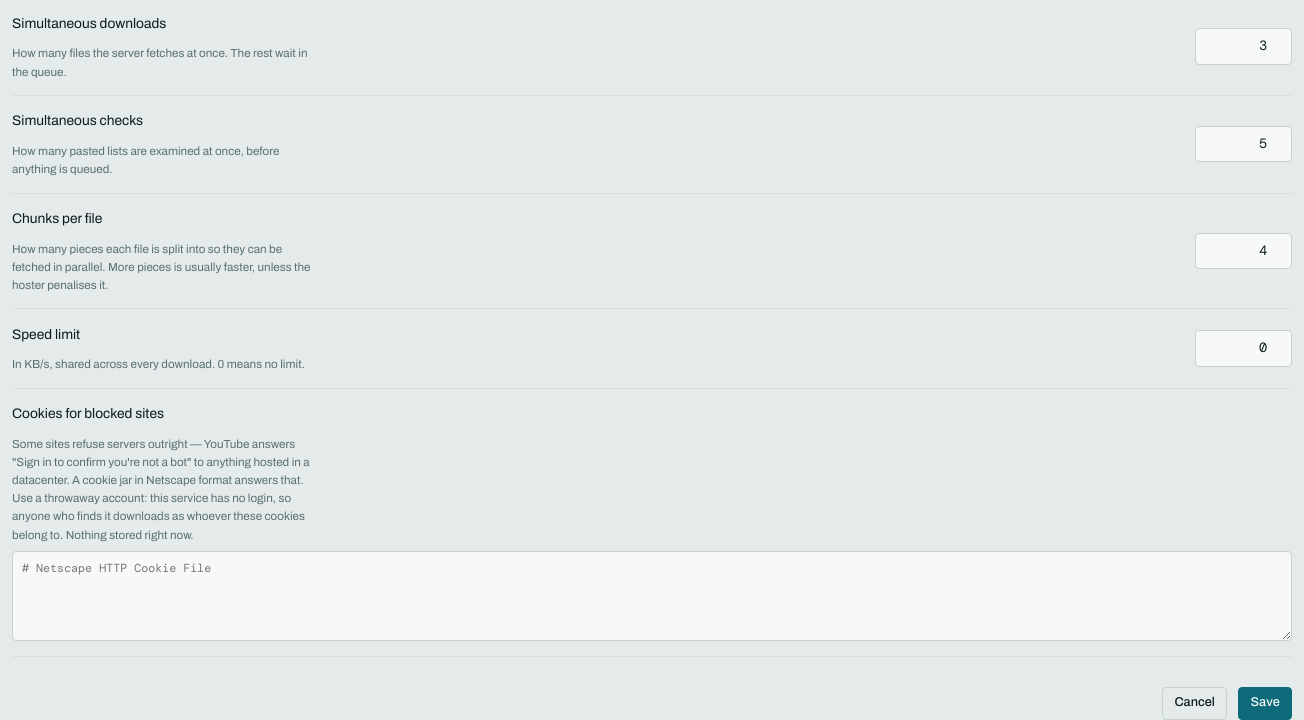
Scenario: keeps the form open and shows why when the save is rejected
(page scrolled)
Expected: the number field labelled "Chunks per file" is shown, [1194,233,1292,269]
Click the button "Save" at (1265, 703), box [1238,687,1292,719]
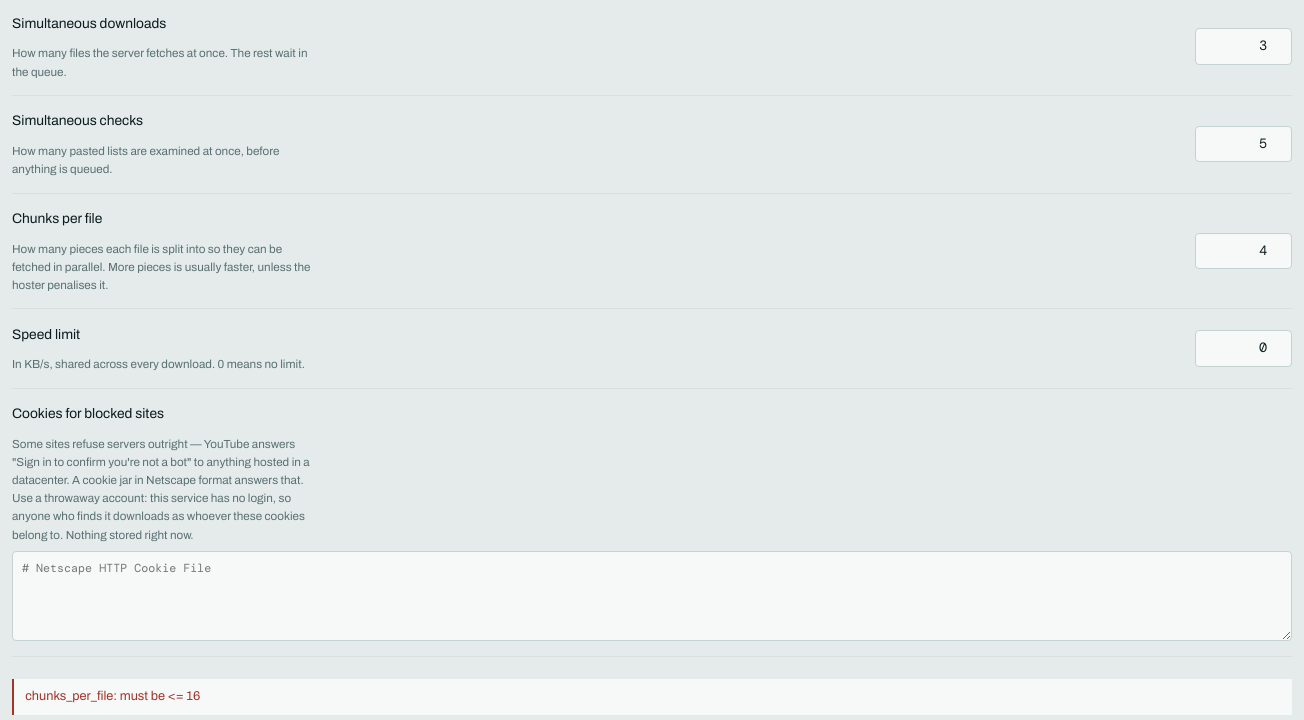
Expected: the text "chunks_per_file: must be <= 16" is shown, [12,679,1292,716]
